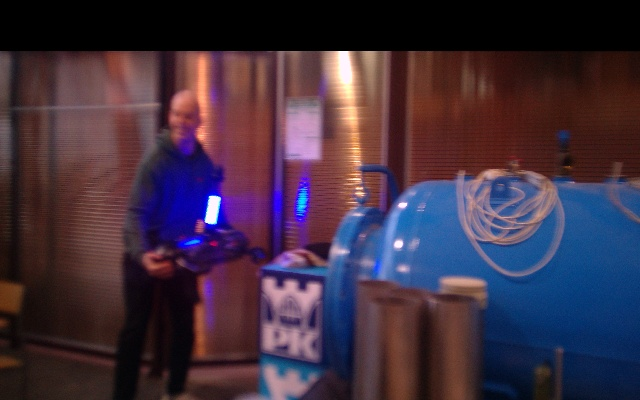blue: (205, 194, 222, 226)
